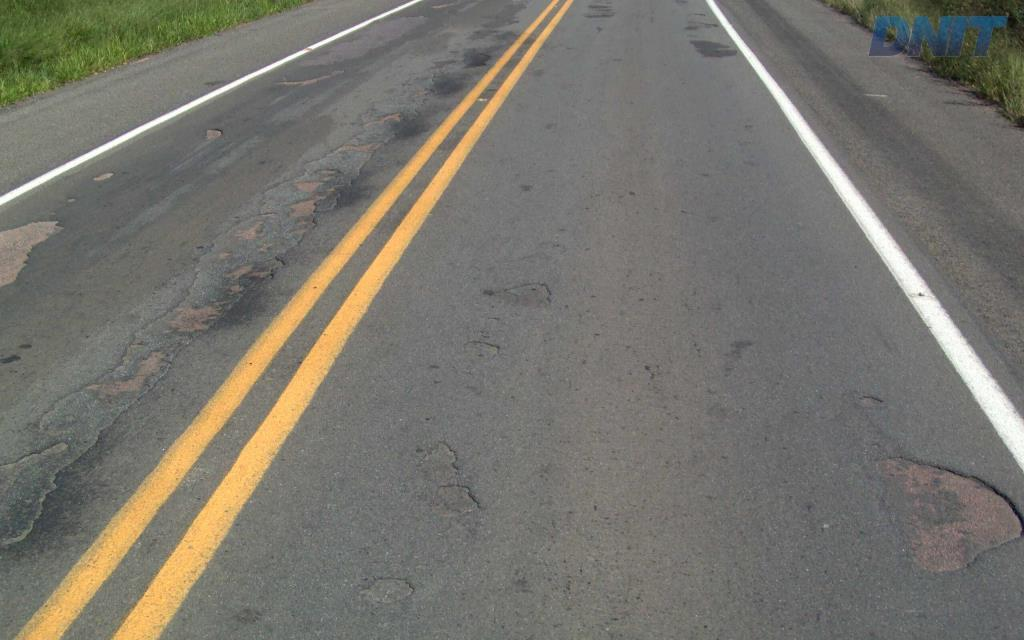pothole: (858, 448, 1022, 579), (478, 272, 557, 307), (356, 570, 422, 611), (414, 434, 463, 477), (433, 479, 484, 515), (459, 339, 506, 362), (852, 390, 886, 410)
